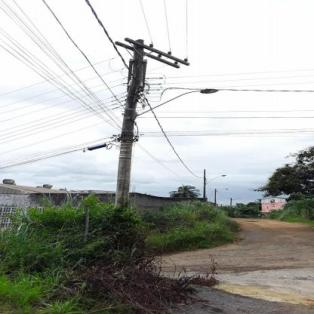Poste: (107, 37, 149, 213)
